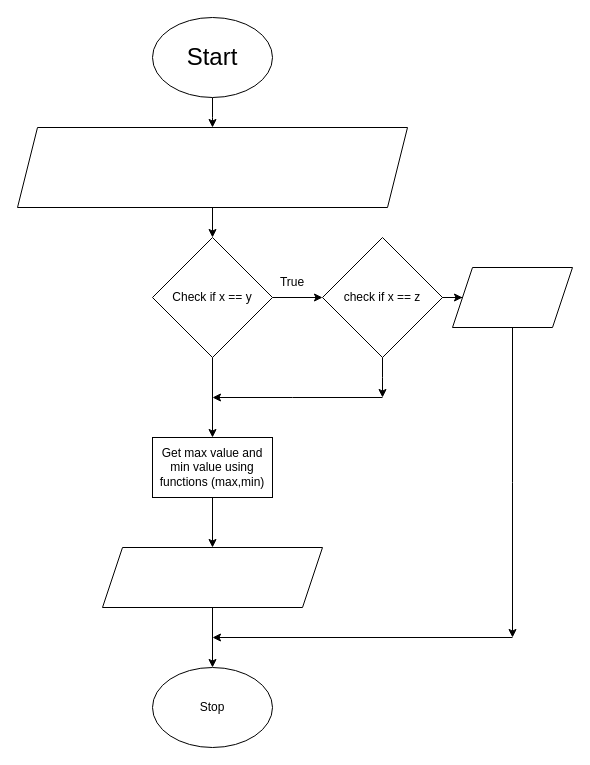
This 590x765 diagram has some shape labels left out. The centre of each missing label's shape, as x and y in pixels:
All values are EQUALS: [512,297]
Determine 3 values x,y,z inserted from user: [212,167]
Print Maximum and minimum value: [212,577]
